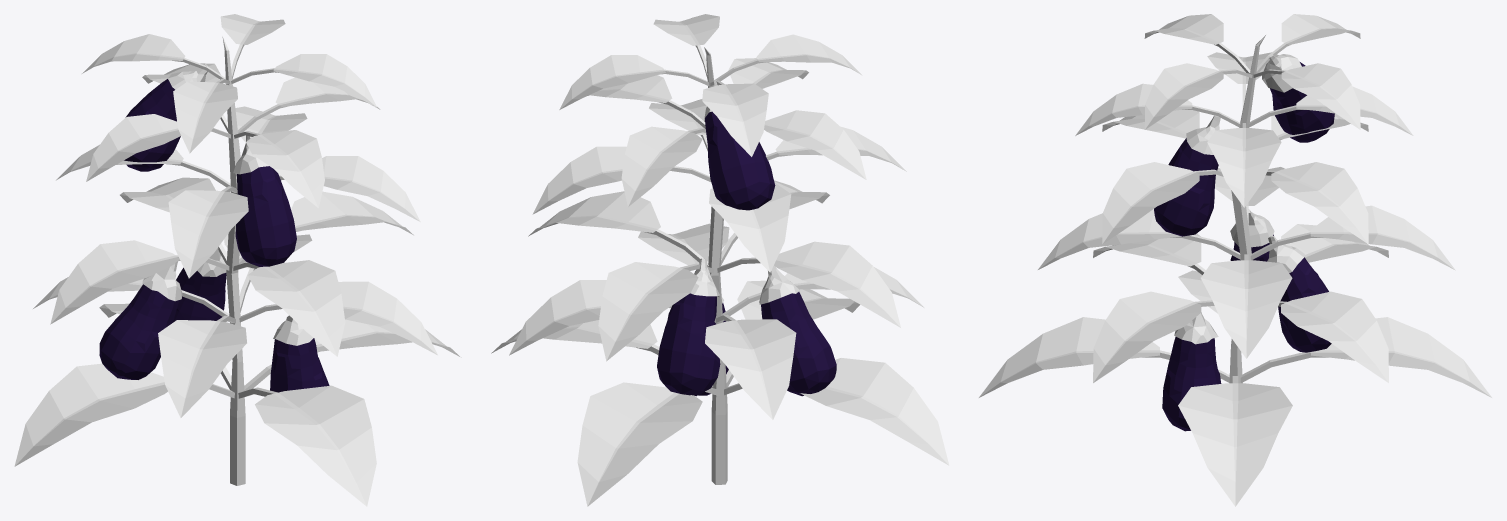
The model's file is harvest.fbx.
3 views of the same model, side by side, from view 1: azimuth 30°, elevation 25°; view 2: azimuth 150°, elevation 25°; view 3: azimuth 270°, elevation 25° (orthographic). The views are drawn at different scales.
Parts seen in each view (by area): view 1: harvest; view 2: harvest; view 3: harvest.
Boxes of the visible parts, bbox=[...] form: harvest: bbox=[14, 14, 461, 506]; harvest: bbox=[491, 14, 949, 506]; harvest: bbox=[979, 14, 1491, 506].
Bounding box in the file's own units: 232 × 216 × 232.
